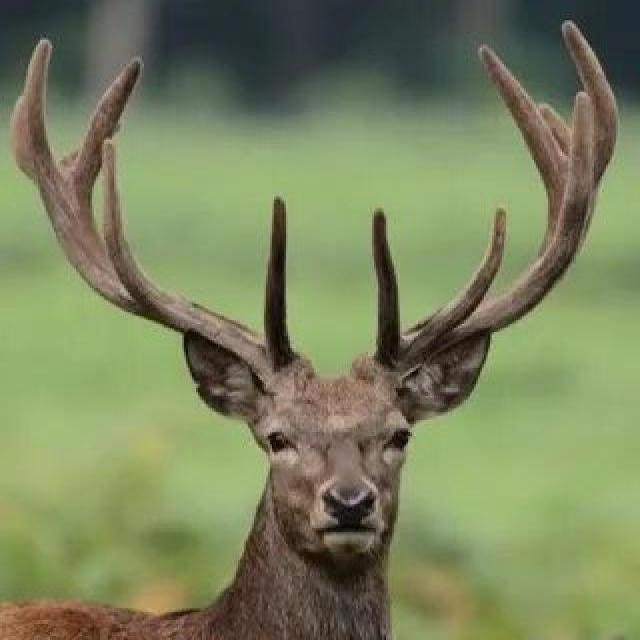deer: (0, 41, 640, 640)
